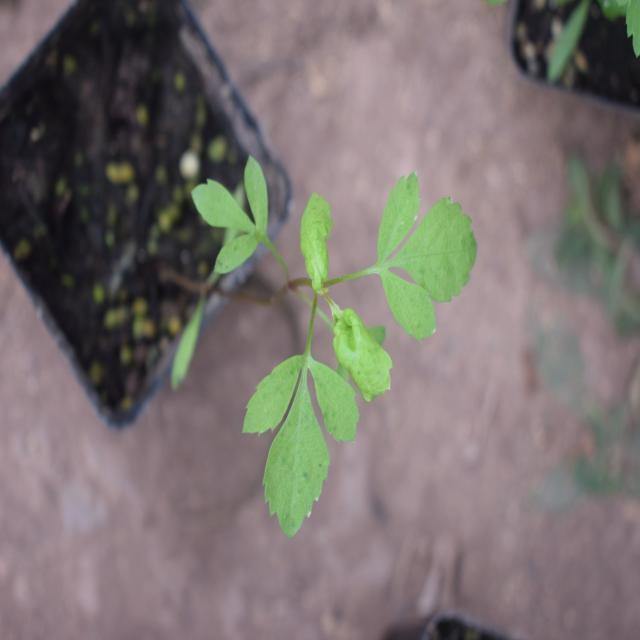Bidens pilosa: (172, 137, 496, 554)
